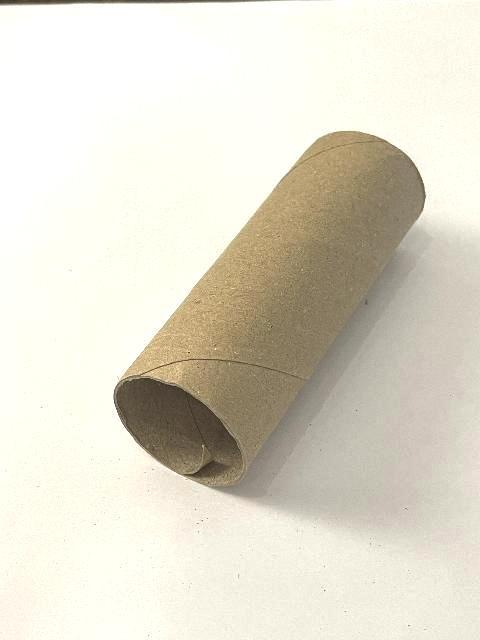tissueroll: (112, 130, 426, 488)
